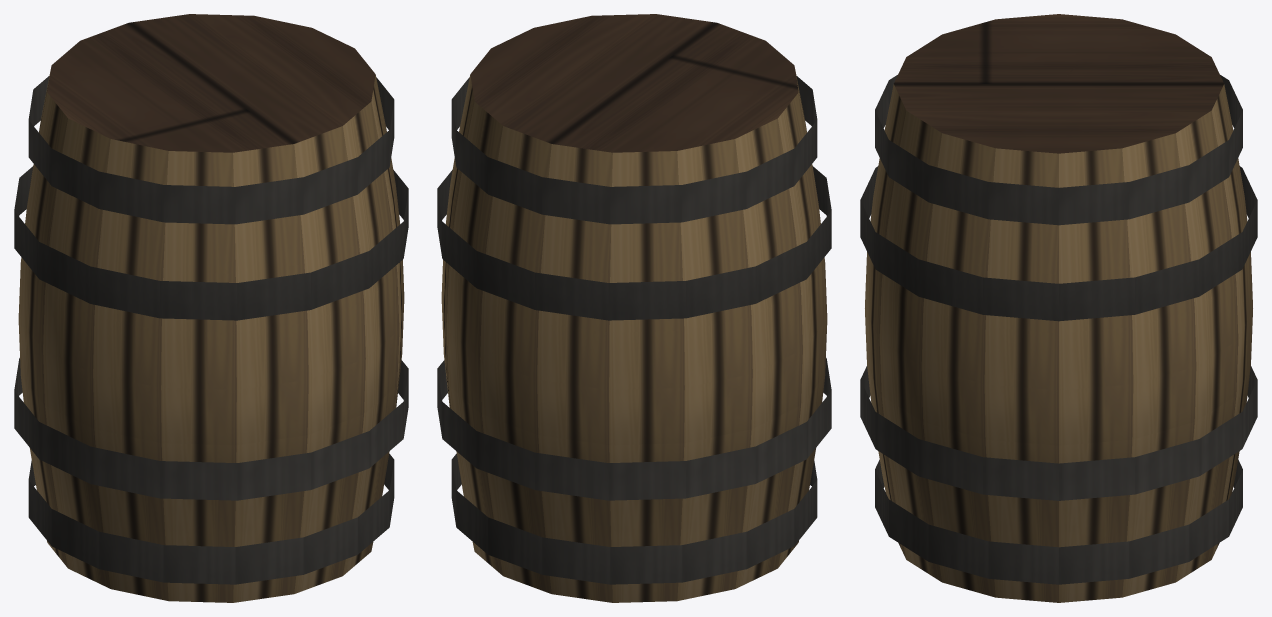
Rendered from barrel_small.gltf.
3 renders of one model, left to right at view 1: azimuth 30°, elevation 25°; view 2: azimuth 150°, elevation 25°; view 3: azimuth 270°, elevation 25°, orthographic.
Visible parts, largest first — view 1: barrel_small_mesh; view 2: barrel_small_mesh; view 3: barrel_small_mesh.
Boxes of the visible parts, bbox=[...] form: barrel_small_mesh: bbox=[14, 14, 408, 602]; barrel_small_mesh: bbox=[437, 14, 831, 602]; barrel_small_mesh: bbox=[860, 14, 1257, 602].
Size of what is drawn, in the model's own units: 0.4806 by 0.6 by 0.4806.
3 materials, 3 textured.
